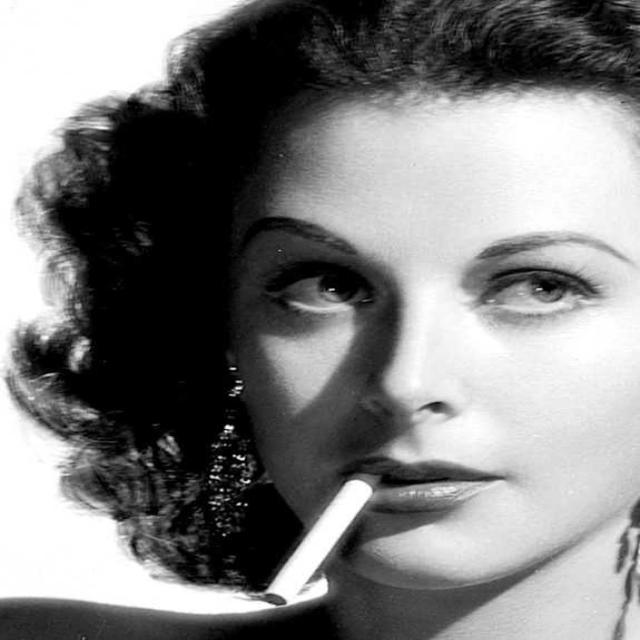Smooking: (234, 466, 405, 620)
